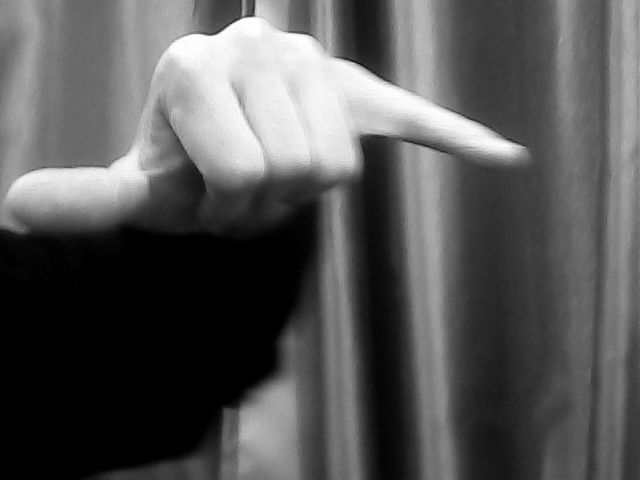aloha: (7, 14, 533, 242)
